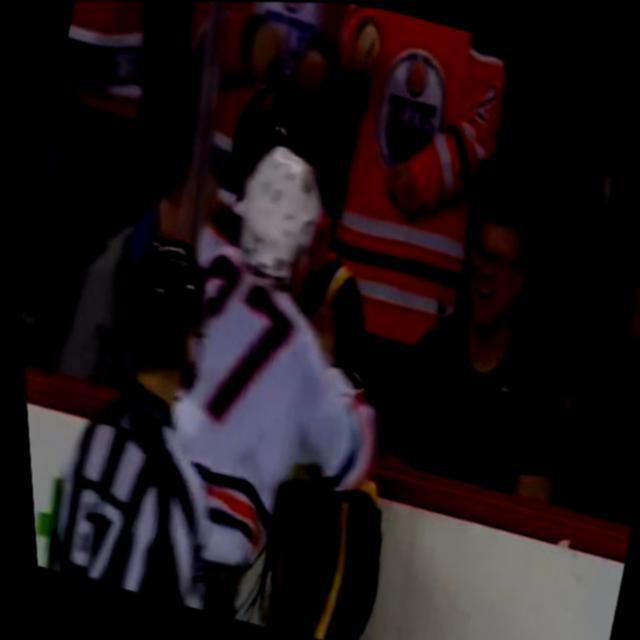fight: (74, 54, 492, 640)
